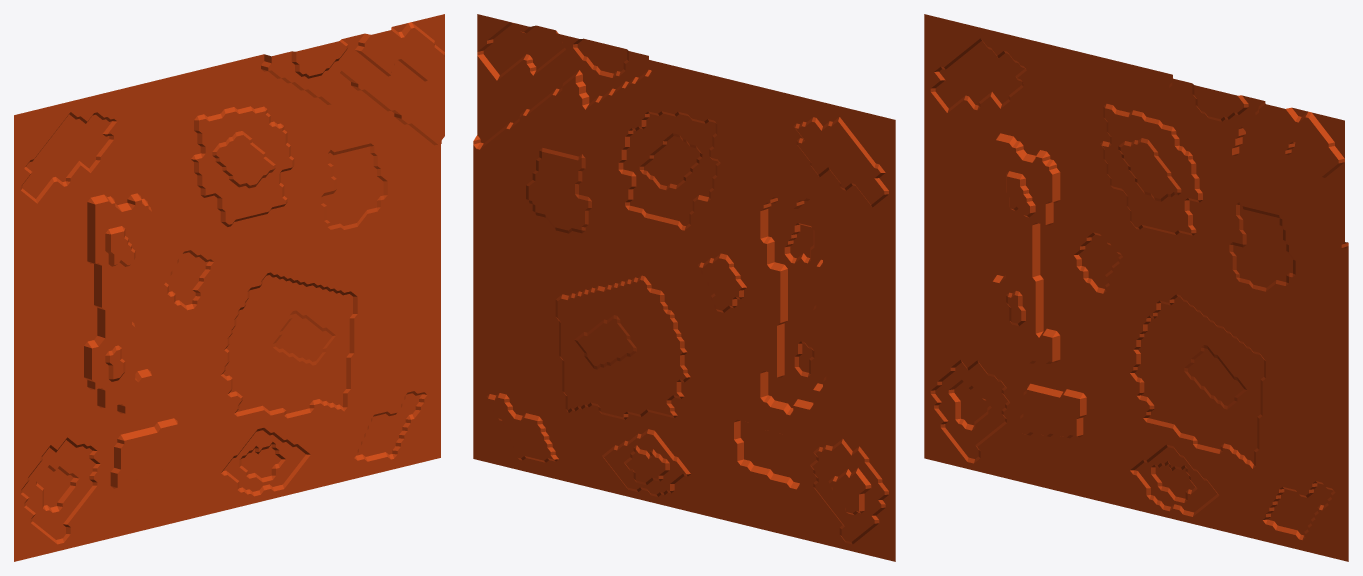
File: DesertGZ2.obj
3 renders of one model, left to right at view 1: azimuth 30°, elevation 25°; view 2: azimuth 150°, elevation 25°; view 3: azimuth 330°, elevation 25°, orthographic.
Parts seen in each view (by area): view 1: Plane; view 2: Plane; view 3: Plane.
Part boxes in pixels (box(x1,y1,x2,y2)): Plane: box(14, 14, 444, 561); Plane: box(473, 14, 895, 561); Plane: box(924, 14, 1348, 561).
Size of the model in its own units: 2 by 2 by 0.0862.
